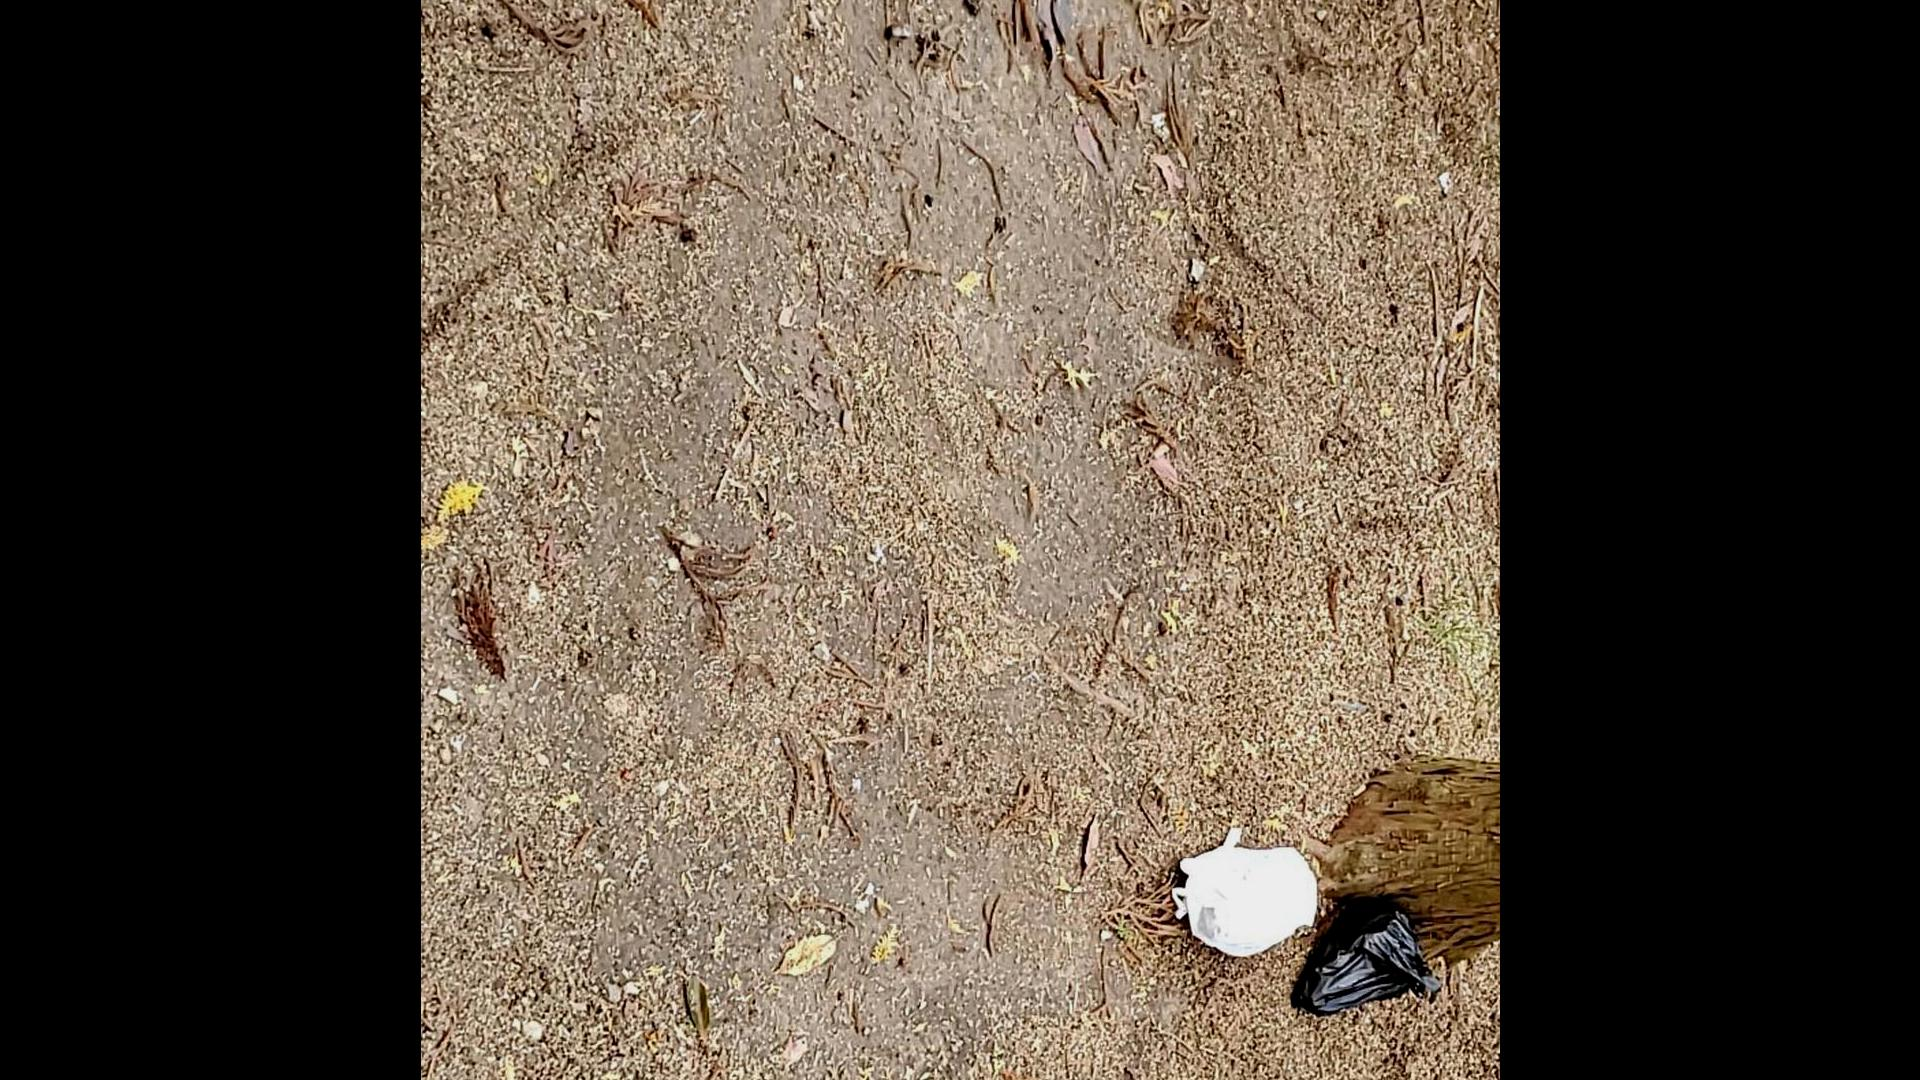black_bag: (1283, 898, 1447, 1027)
white_bag: (1160, 814, 1321, 967)
